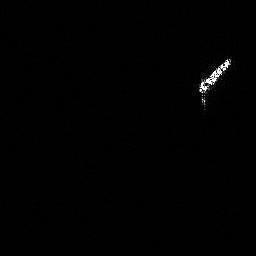ship: (198, 53, 233, 108)
